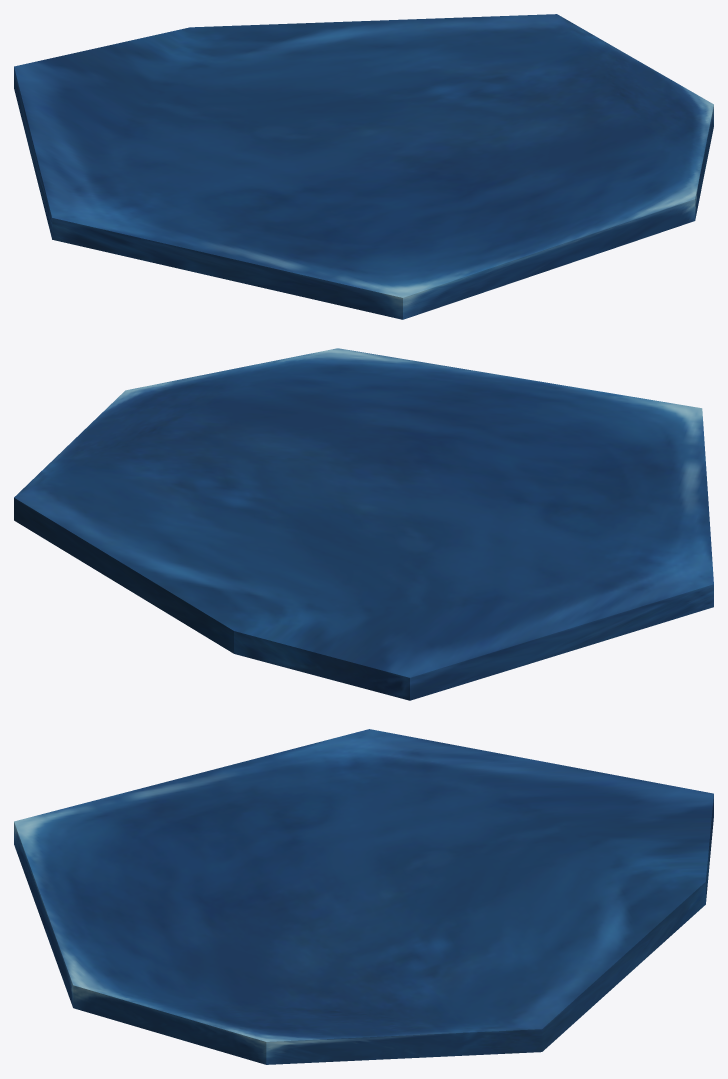
Rendered from FuBing05.FBX.
The picture shows the model from 3 angles, top to bottom: view 1: azimuth 30°, elevation 25°; view 2: azimuth 150°, elevation 25°; view 3: azimuth 270°, elevation 25°; orthographic projection. The views are drawn at different scales.
Parts seen in each view (by area): view 1: FuBing05; view 2: FuBing05; view 3: FuBing05.
Part boxes in pixels (box(x1,y1,x2,y2)): FuBing05: box(14, 14, 713, 319); FuBing05: box(14, 348, 713, 700); FuBing05: box(14, 729, 713, 1064).
Size of the model in its own units: 897 by 30.7 by 848.
